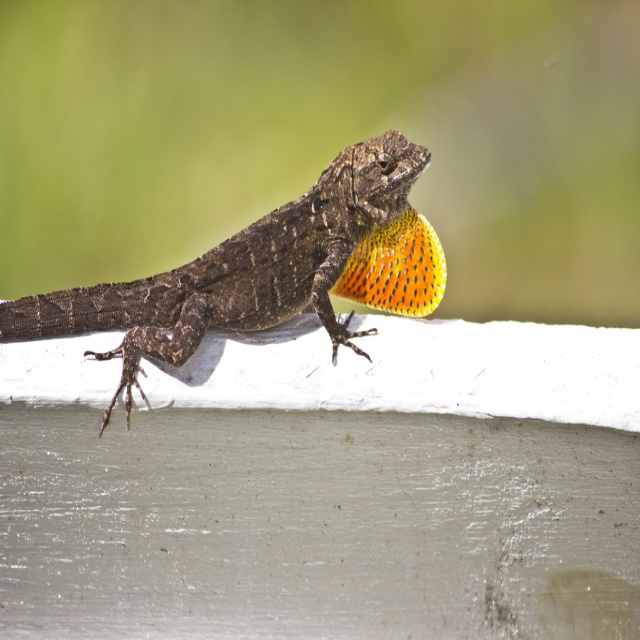Lizard: (2, 128, 432, 439)
